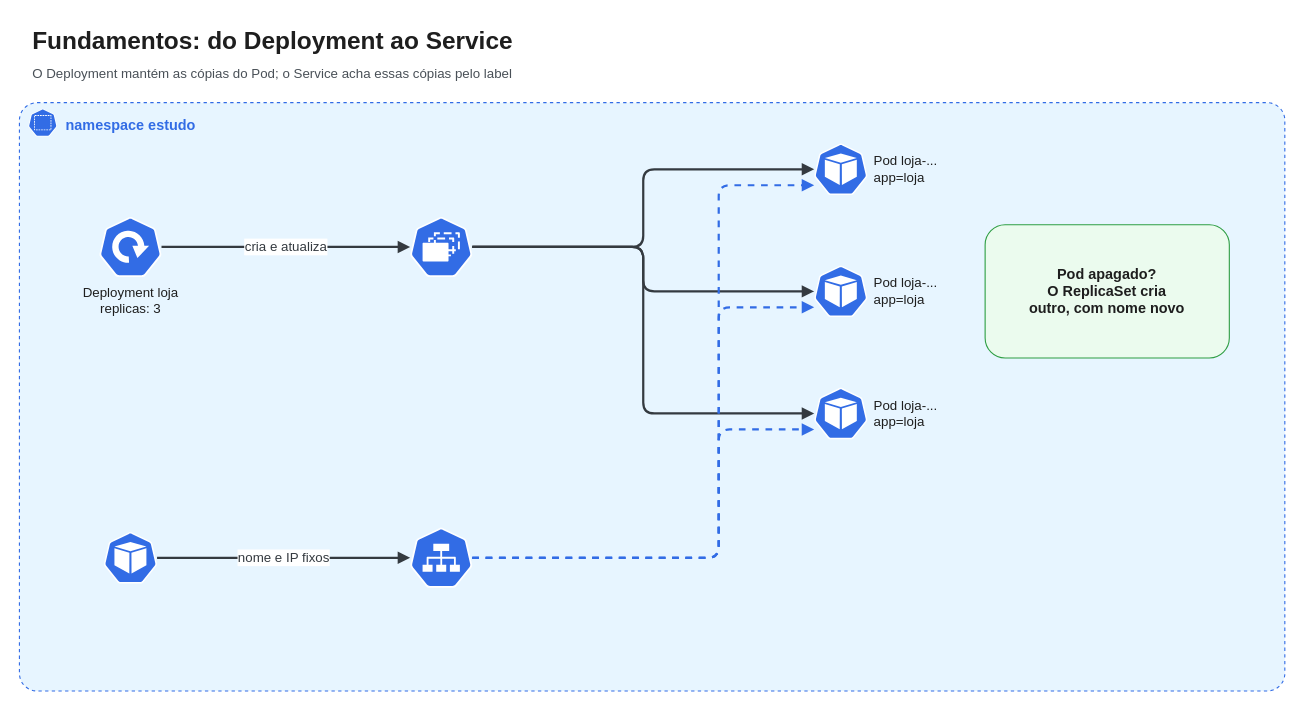
Some shapes in this 1304 by 710 pixel diagram are drawn without their labels. The shapes that lost their labels are listed below. From the top down, each one's centre as x and y in pixels, then its label:
At (440,246): "ReplicaSet loja-54f7ccdbb4".
At (130,557): "Pod de teste wget http://loja".
At (440,557): "Service loja selector: app=loja".
